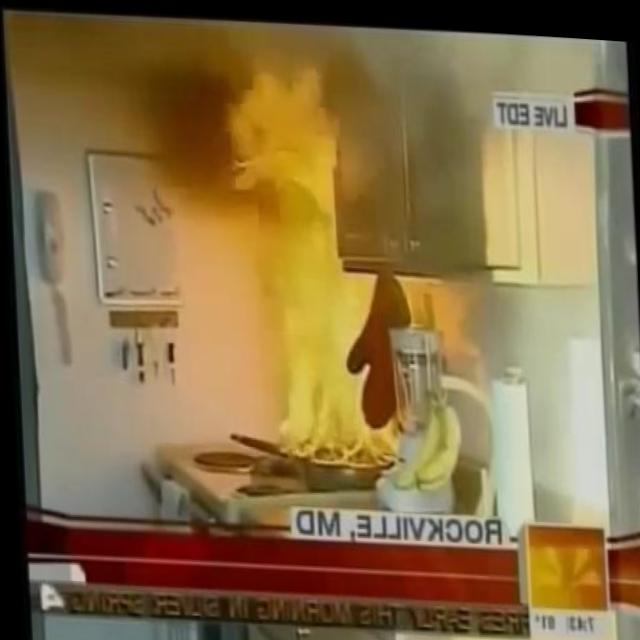fire: (226, 52, 409, 466)
